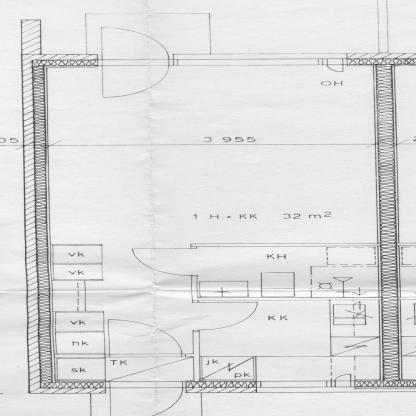bathroom: (192, 245, 390, 298)
door: (90, 23, 174, 102), (102, 316, 197, 360), (102, 378, 190, 416), (127, 245, 208, 280), (191, 301, 263, 330)
perimeter: (32, 60, 395, 389)
window: (174, 55, 351, 74), (252, 373, 366, 392)
